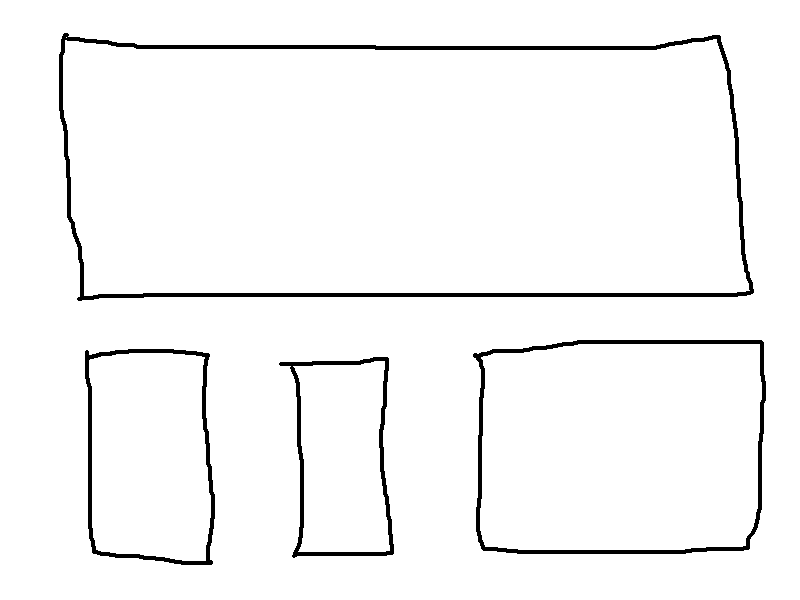rect: (53, 29, 759, 311), (469, 331, 770, 562), (79, 341, 223, 570), (281, 350, 406, 562)
